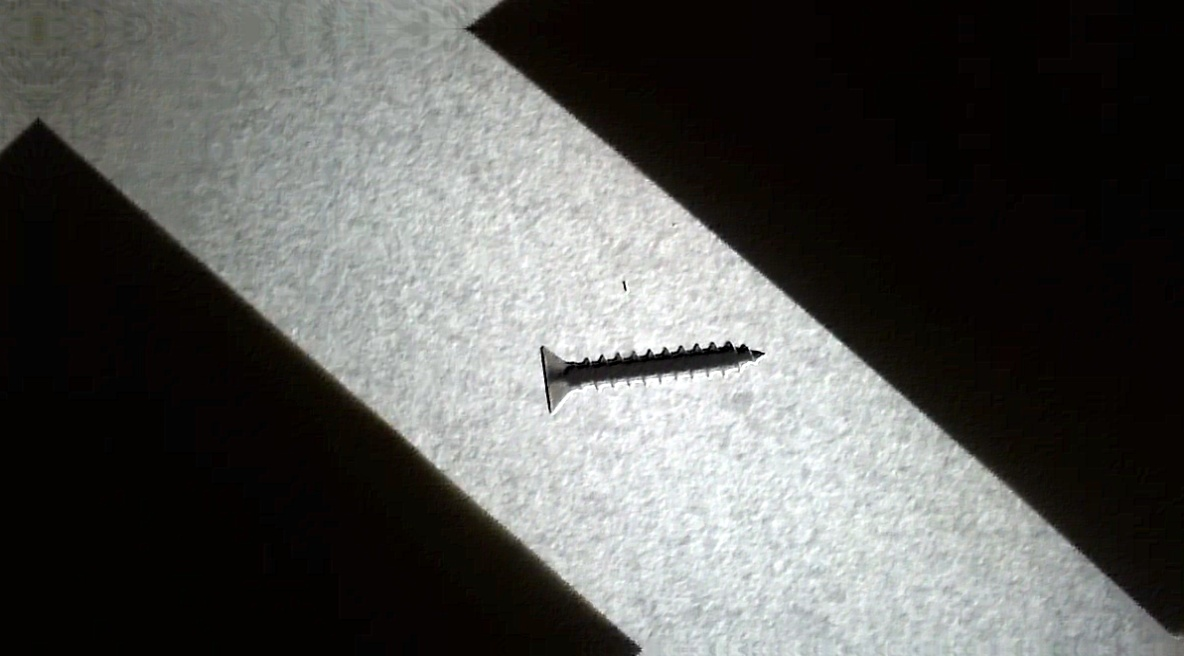S001: (526, 320, 776, 427)
